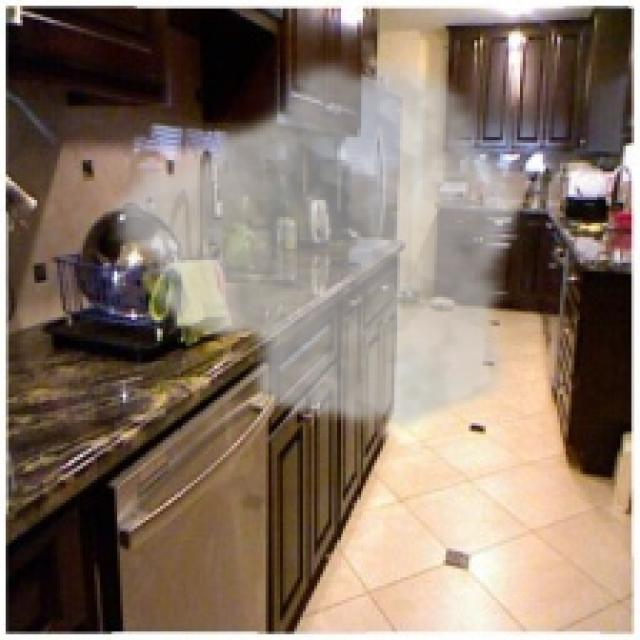smoke: (103, 49, 526, 434)
